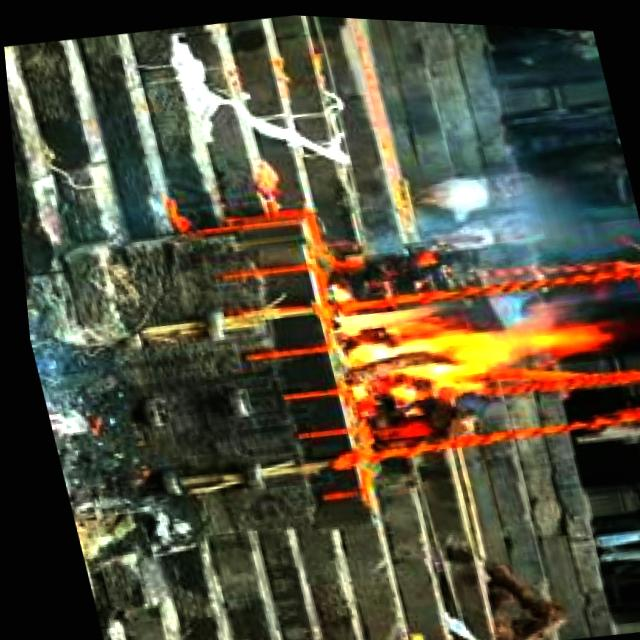Fire: (327, 259, 616, 419)
